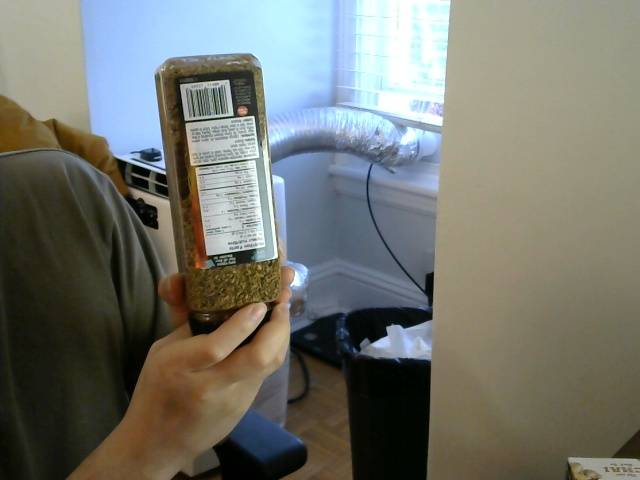Barcode: (183, 82, 229, 118)
